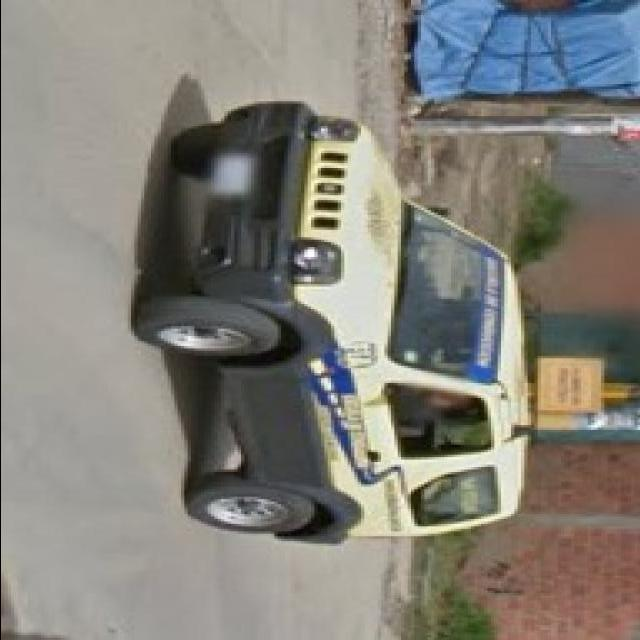car: (136, 109, 532, 548)
